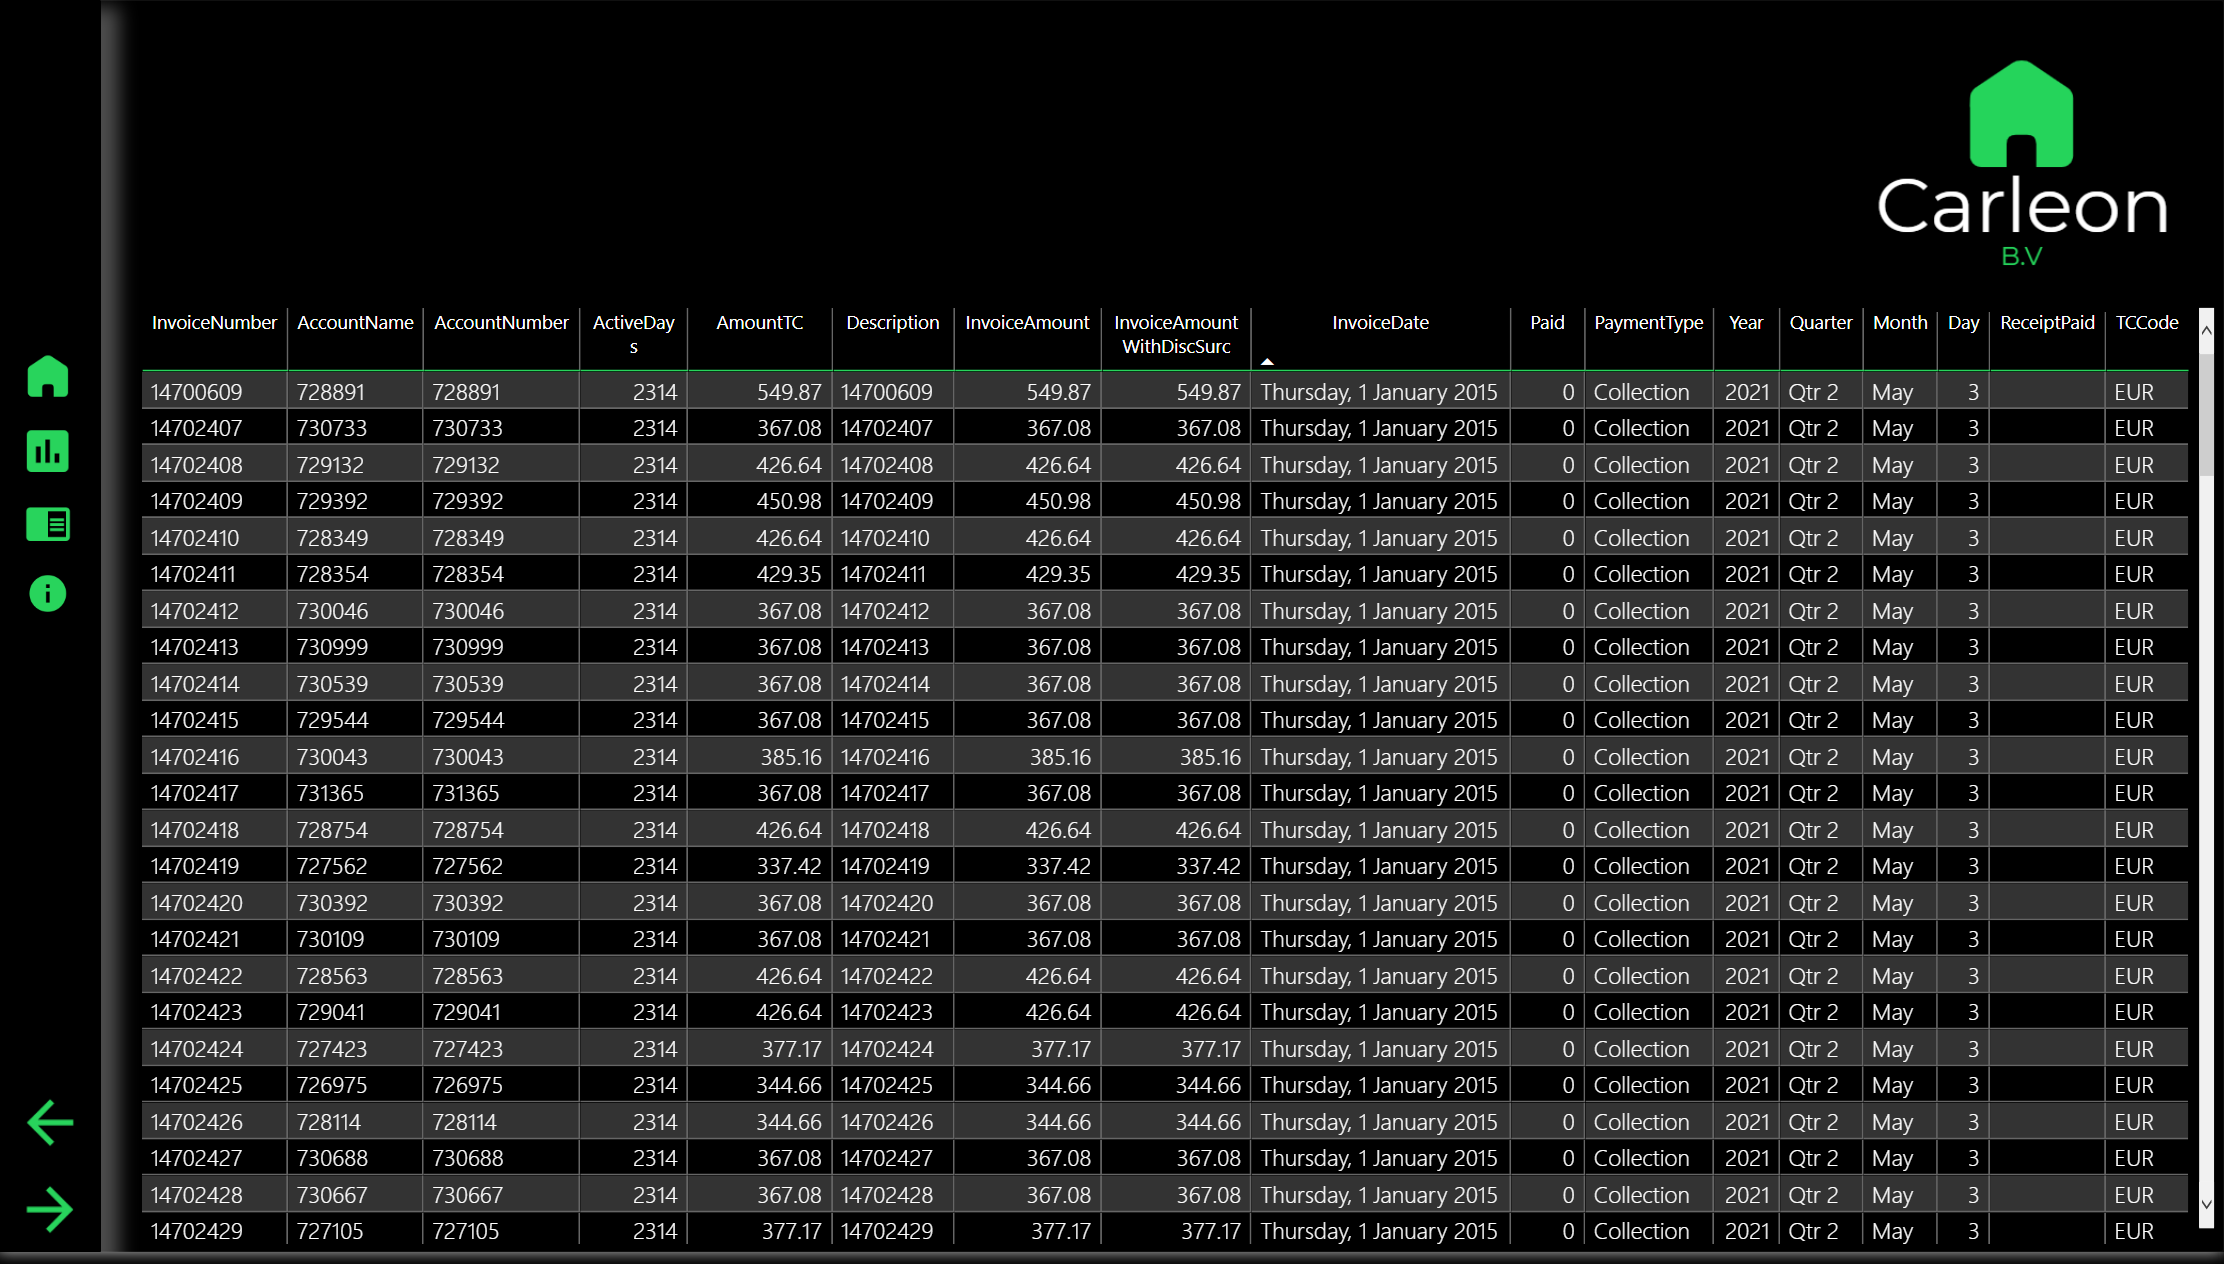

This screenshot's page, from the dashboard's own definition file:
{"tool":"powerbi","page":{"name":"RawData","canvas":[1280,720],"ordinal":2},"visuals":[{"type":"tableEx","fields":{"Values":["factAR.InvoiceNumber","factAR.AccountName","factAR.AccountNumber","Sum(factAR.ActiveDays)","Sum(factAR.AmountTC)","factAR.Description","Sum(factAR.InvoiceAmount)","Sum(factAR.InvoiceAmountWithDiscSurc)","factAR.InvoiceDate","Sum(factAR.Paid)","factAR.PaymentType","factAR.ProcessedDate.Variation.Date Hierarchy.Year"]},"box":[77.6,171.6,1202.4,548.6],"z":0},{"type":"group","id":"g1","title":"Group 2","box":[0,0,59.9,720.2],"z":1000},{"type":"group","id":"g2","title":"Group 3","box":[0,0,59.9,720.2],"z":2000,"group":"g1"},{"type":"image","box":[1074.7,12.1,182,167.3],"z":2000},{"type":"basicShape","box":[0,0,59.9,720.1],"z":3000,"group":"g2"},{"type":"image","box":[5.2,620.2,50,50],"z":3000,"group":"g1"},{"type":"image","box":[12.1,198.4,34.5,37.1],"z":5000,"group":"g2"},{"type":"image","box":[7.8,238.1,42.3,43.1],"z":7000,"group":"g2"},{"type":"image","box":[10.4,281.2,38,39.7],"z":9000,"group":"g2"},{"type":"image","box":[11.2,322.6,35.4,37.1],"z":11000,"group":"g2"},{"type":"image","box":[5.2,670.2,50,50],"z":12000,"group":"g2"}]}

Visuals, with their boxes on the page's 1280x720 design canvas (x1, y1, x2, y2). These are canvas units, not pixel positions in the 2224x1264 screenshot, which may show the page scaled, cropped or inside an application window:
tableEx - factAR.InvoiceNumber x factAR.AccountName: (x1=78, y1=172, x2=1280, y2=720)
"Group 2" group: (x1=0, y1=0, x2=60, y2=720)
"Group 3" group: (x1=0, y1=0, x2=60, y2=720)
image: (x1=1075, y1=12, x2=1257, y2=179)
basicShape: (x1=0, y1=0, x2=60, y2=720)
image: (x1=5, y1=620, x2=55, y2=670)
image: (x1=12, y1=198, x2=47, y2=236)
image: (x1=8, y1=238, x2=50, y2=281)
image: (x1=10, y1=281, x2=48, y2=321)
image: (x1=11, y1=323, x2=47, y2=360)
image: (x1=5, y1=670, x2=55, y2=720)
